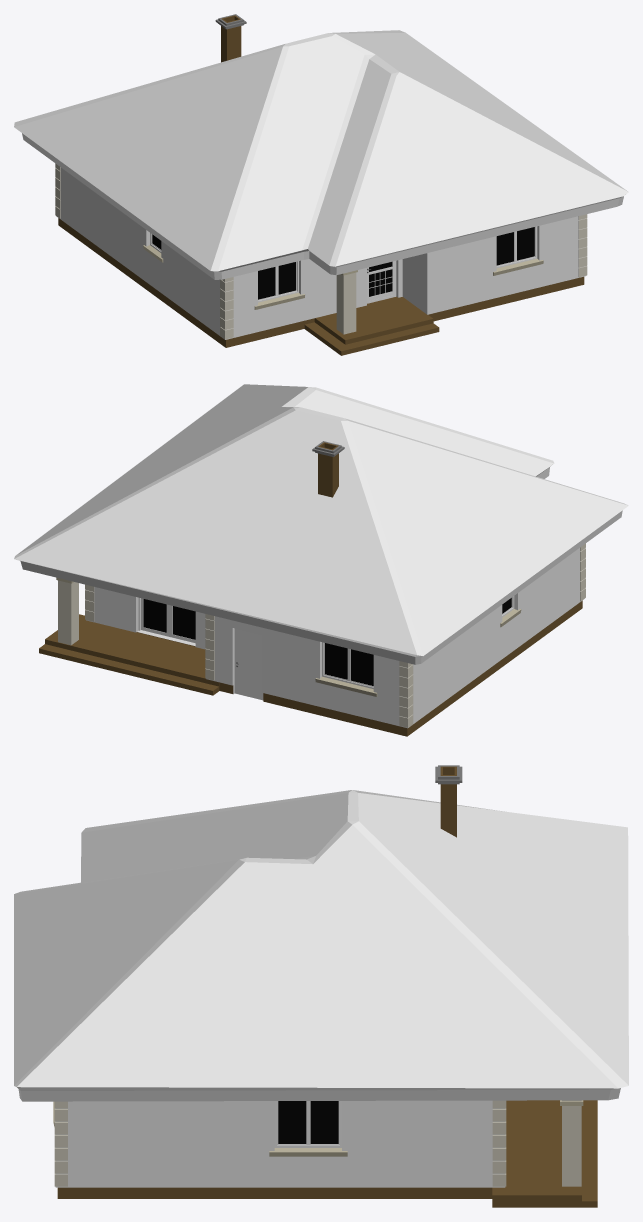
File: house2new.fbx
The picture shows the model from 3 angles, top to bottom: view 1: azimuth 30°, elevation 25°; view 2: azimuth 150°, elevation 25°; view 3: azimuth 270°, elevation 25°; orthographic projection. The views are drawn at different scales.
Visible parts, largest first — view 1: rooftop, 3 001, 21 011, 6 003, Object067, 28 001, 26 001, Object068, Object066; view 2: rooftop, 3 001, 21 011, Object067, 6 003, 26 001, 28 001, Object066, Object068; view 3: rooftop, 3 001, 21 011, 6 003, Object067, 28 001, Object066, 26 001, Object068.
Boxes of the visible parts, box(x1,y1,x2,y2) form: rooftop: box(14, 30, 628, 279); 3 001: box(56, 167, 586, 339); 21 011: box(304, 296, 439, 355); 6 003: box(58, 218, 584, 347); Object067: box(55, 163, 587, 339); 28 001: box(152, 227, 534, 299); 26 001: box(150, 226, 537, 303); Object068: box(143, 245, 543, 309); Object066: box(221, 15, 241, 62); rooftop: box(14, 384, 628, 664); 3 001: box(86, 548, 583, 728); 21 011: box(39, 614, 219, 695); Object067: box(58, 543, 585, 727); 6 003: box(137, 600, 582, 736); 26 001: box(138, 596, 514, 700); 28 001: box(143, 598, 511, 685); Object066: box(318, 442, 338, 497); Object068: box(315, 609, 521, 696); rooftop: box(14, 790, 628, 1101); 3 001: box(55, 1100, 505, 1187); 21 011: box(492, 1100, 597, 1207); 6 003: box(57, 1187, 492, 1198); Object067: box(54, 1100, 581, 1186); 28 001: box(278, 1101, 338, 1143); Object066: box(440, 766, 456, 837); 26 001: box(274, 1101, 341, 1147); Object068: box(53, 1101, 347, 1156).
Size of the model in its own units: 1379 by 710 by 1371.
